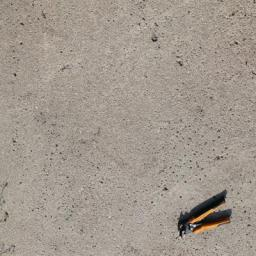FOD: (171, 190, 236, 239)
